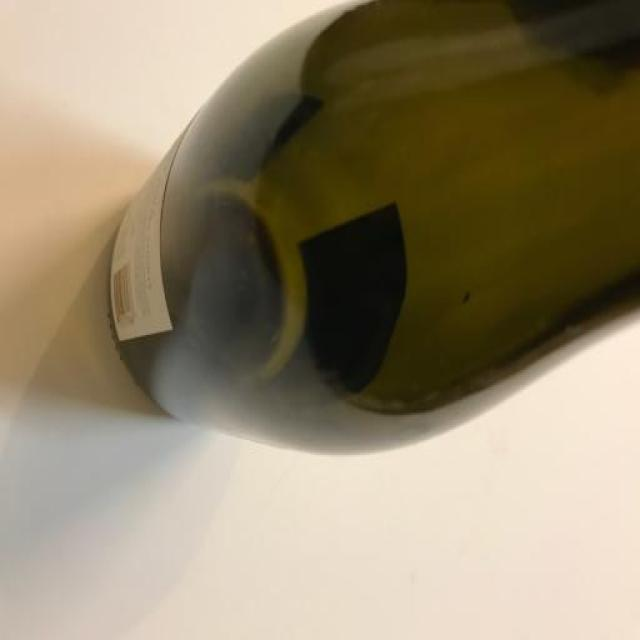glass: (109, 0, 640, 455)
